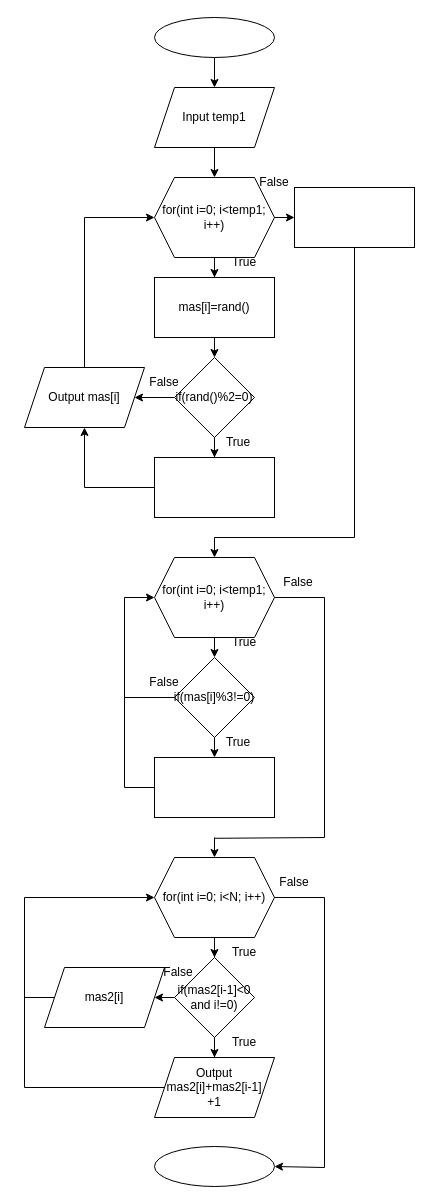
Some shapes in this 432 by 1204 pixel diagram are drawn without their labels. The shapes that lost their labels are listed below. From the top down, each one's centre as x and y in pixels, then its label:
At (x=214, y=37): "Beginning".
At (x=354, y=217): "N=0".
At (x=214, y=487): "mas[i]=mas[i]*-1".
At (x=214, y=787): "mas2[N]=mas[i] N=N+1".
At (x=214, y=1166): "End".
